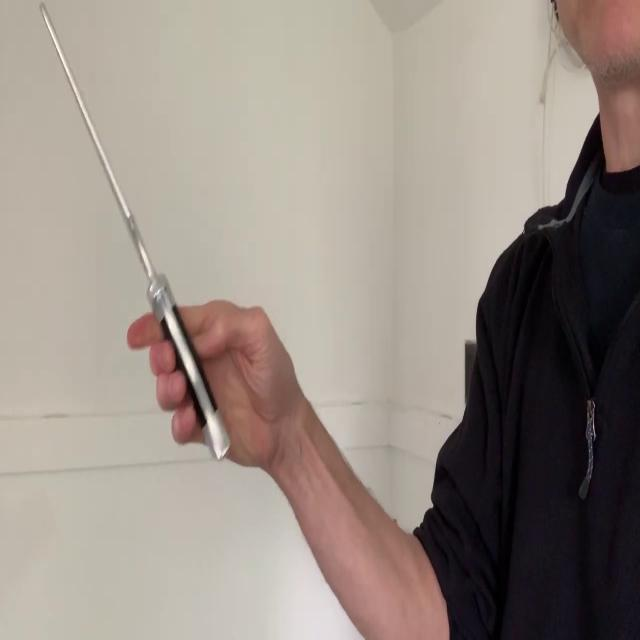Knife_Handle: (40, 2, 303, 468)
